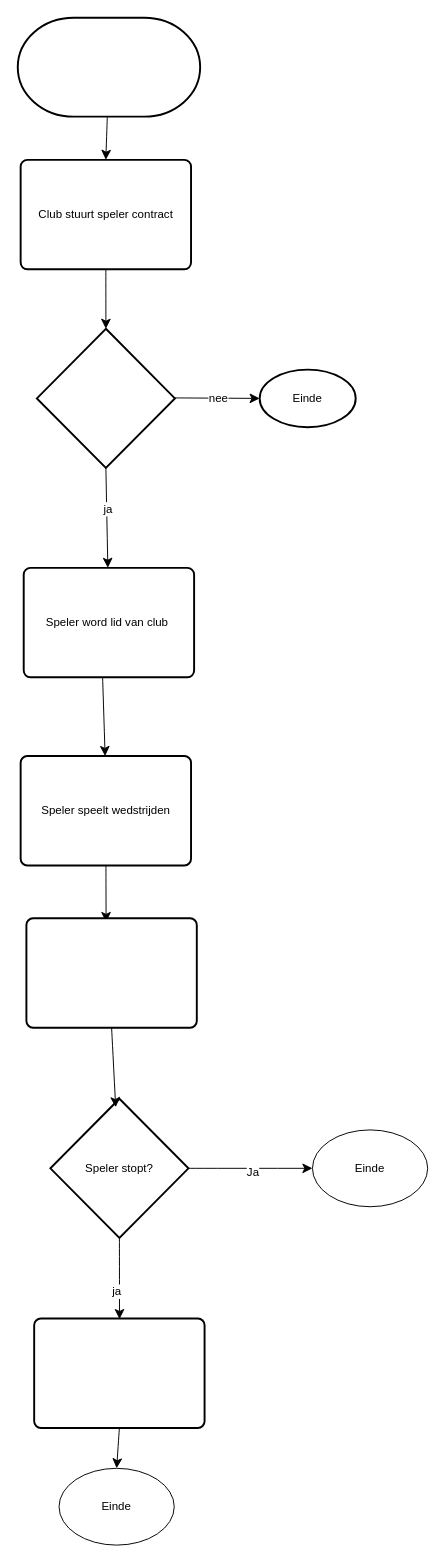
The diagram is 444 pixels wide and 1562 high, and some of its shapes have lost their labels. The shapes that lost their labels are listed below. From the top down, each one's centre as x and y in pixels, then its label:
the point at 108,66: Start
the point at 105,397: speler accepteerd contract?
the point at 111,972: Contract loopt af
the point at 119,1372: Speler blijft spelen tot hij stopt
